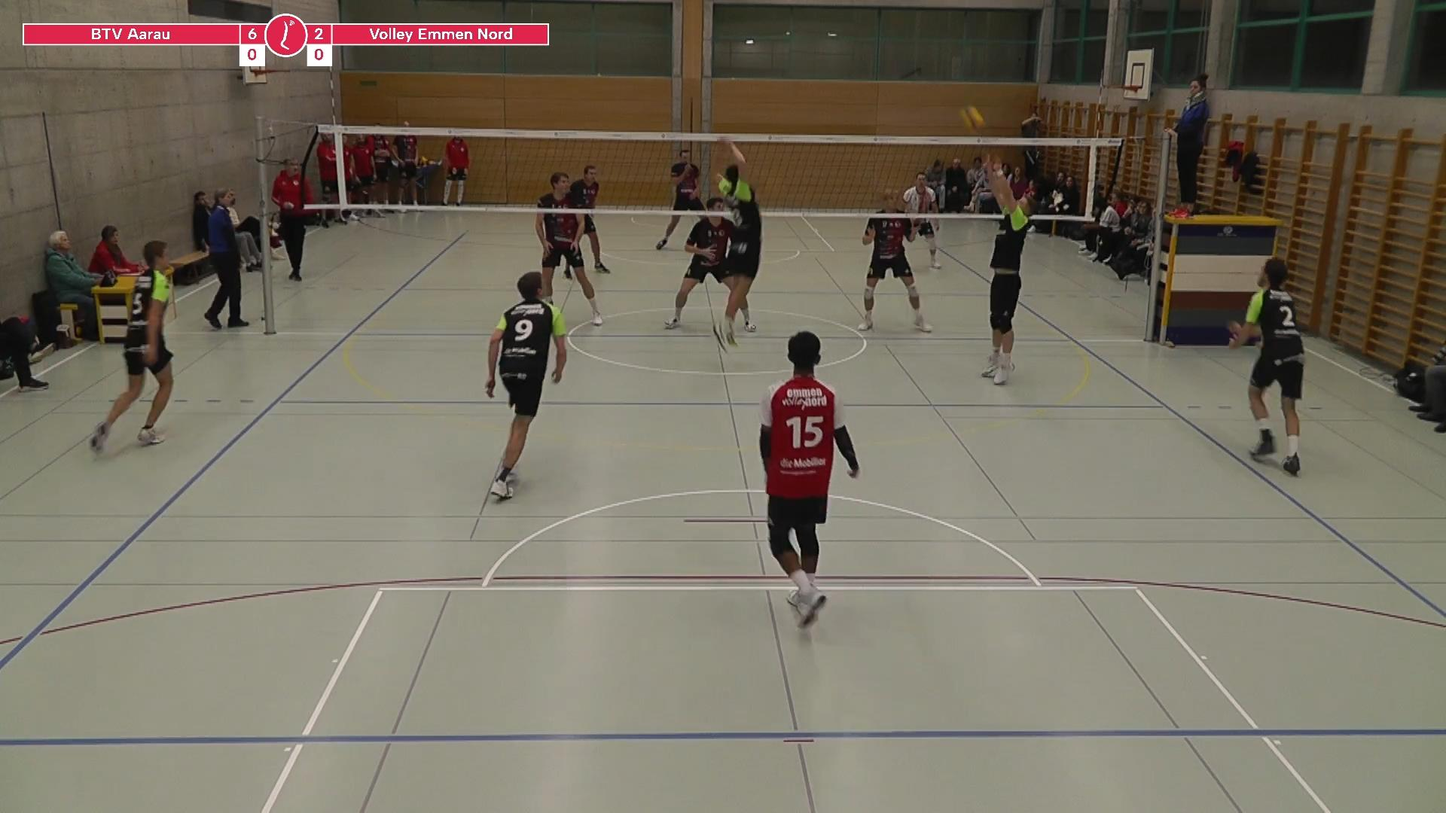Player: (759, 331, 859, 626), (487, 272, 566, 498), (90, 241, 173, 453), (1229, 258, 1304, 475), (859, 190, 932, 332), (664, 197, 735, 329), (718, 139, 761, 345), (535, 211, 602, 325), (903, 172, 941, 269), (670, 150, 703, 212), (584, 214, 609, 273)
Set: (969, 147, 1039, 392)
ball: (959, 100, 985, 132)
